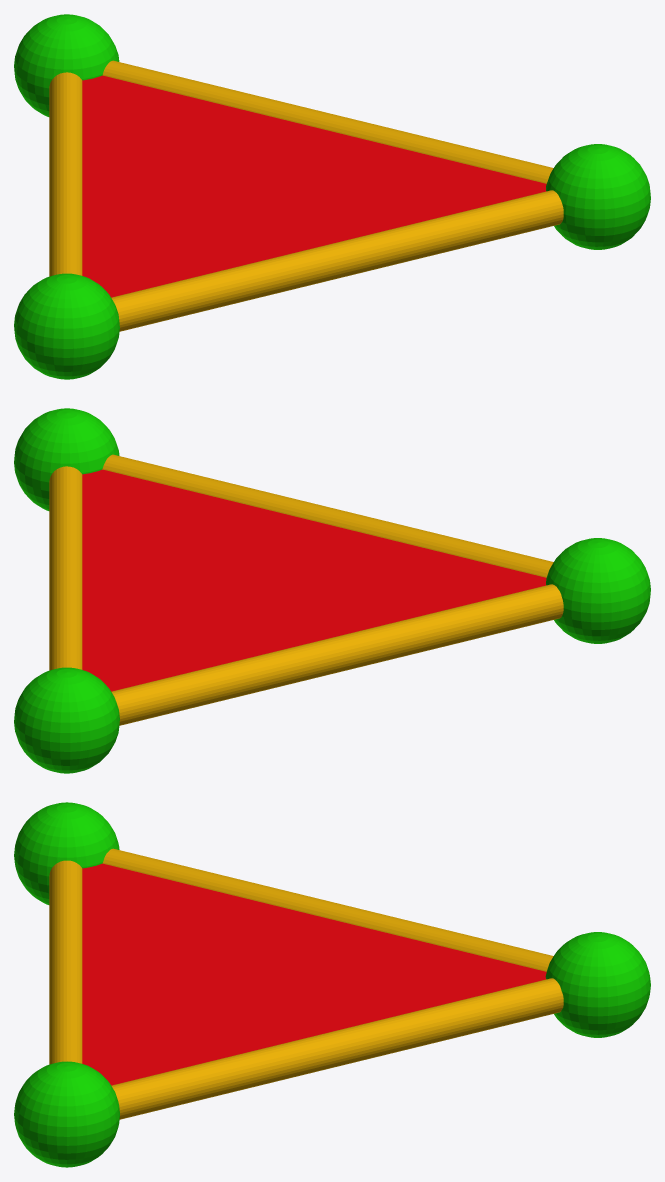
Rendered from triangulo.fbx.
3 views of the same model, one above another, from view 1: azimuth 30°, elevation 25°; view 2: azimuth 150°, elevation 25°; view 3: azimuth 270°, elevation 25° (orthographic).
Parts seen in each view (by area): view 1: Circle, Cylinder, Sphere; view 2: Circle, Cylinder, Sphere; view 3: Circle, Cylinder, Sphere.
Boxes of the visible parts, x1,y1,x2,y2 form: Circle: (82,75,546,297); Cylinder: (49,60,563,331); Sphere: (14,14,650,379); Circle: (82,469,546,691); Cylinder: (49,454,563,725); Sphere: (14,408,650,773); Circle: (82,863,546,1085); Cylinder: (49,848,563,1119); Sphere: (14,802,650,1167).
Bounding box in the file's own units: 203 × 30 × 180.
